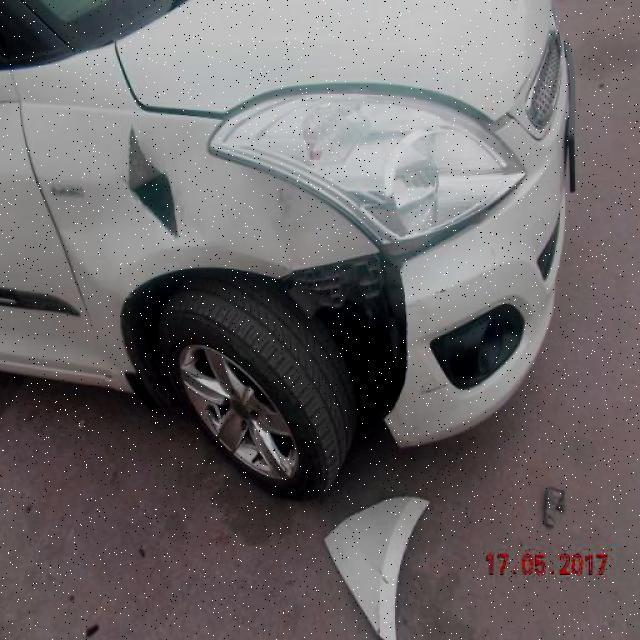car damage: (125, 121, 180, 242), (387, 265, 423, 419)
